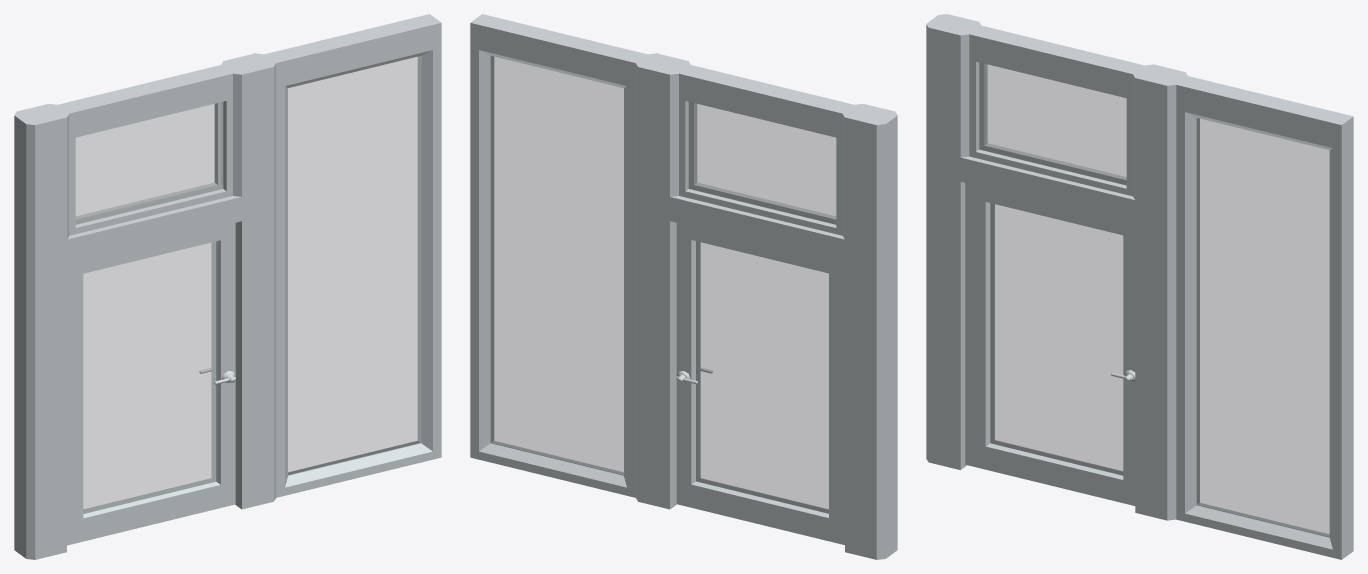
The model's file is Wall02.fbx.
The picture shows the model from 3 angles, left to right: view 1: azimuth 30°, elevation 25°; view 2: azimuth 150°, elevation 25°; view 3: azimuth 330°, elevation 25°; orthographic projection.
Visible parts, largest first — view 1: Wall02, Door; view 2: Wall02, Door; view 3: Wall02, Door.
Part boxes in pixels (x1,y1,x2,y2): Wall02: [14, 14, 441, 559]; Door: [67, 223, 235, 545]; Wall02: [470, 14, 897, 559]; Door: [676, 223, 844, 544]; Wall02: [926, 14, 1353, 559]; Door: [965, 183, 1135, 505].
Size of the model in its own units: 4 by 4 by 0.3154.
